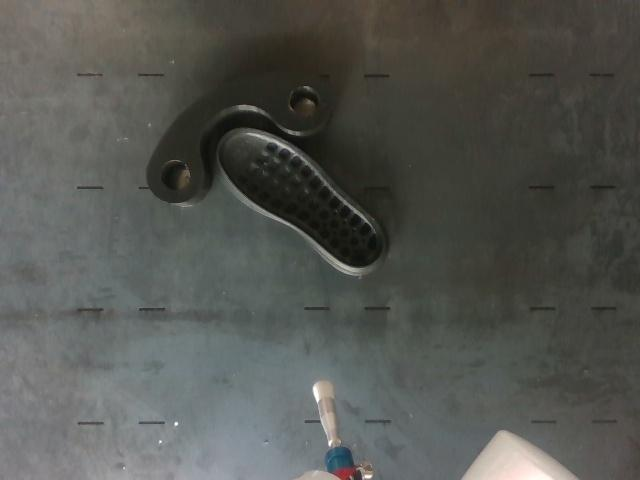shoes: (223, 133, 382, 267)
